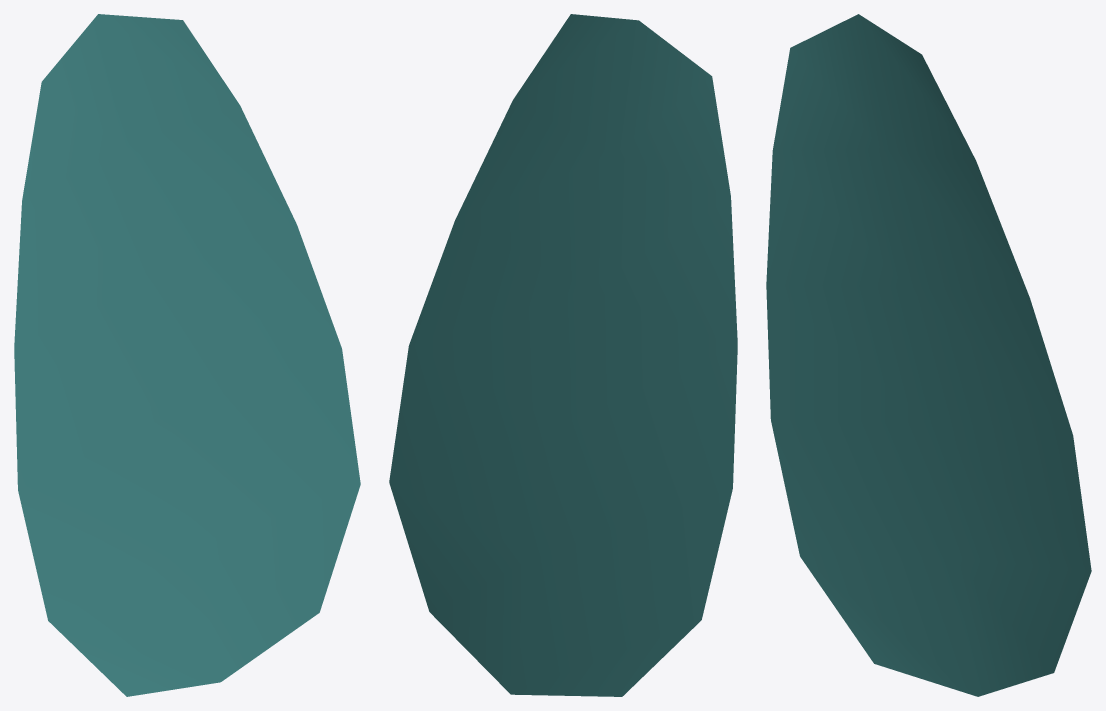
File: budgie_feather_flight_tertiary_051.obj
3 views of the same model, side by side, from view 1: azimuth 30°, elevation 25°; view 2: azimuth 150°, elevation 25°; view 3: azimuth 330°, elevation 25° (orthographic). The views are drawn at different scales.
Parts seen in each view (by area): view 1: feather_flight_tertiary_051; view 2: feather_flight_tertiary_051; view 3: feather_flight_tertiary_051.
Part boxes in pixels (x1=…): feather_flight_tertiary_051: x1=14, y1=14, x2=360, y2=696; feather_flight_tertiary_051: x1=389, y1=14, x2=737, y2=696; feather_flight_tertiary_051: x1=766, y1=14, x2=1091, y2=696.
Bounding box in the file's own units: 0.00758 × 0.0146 × 0.000415.
